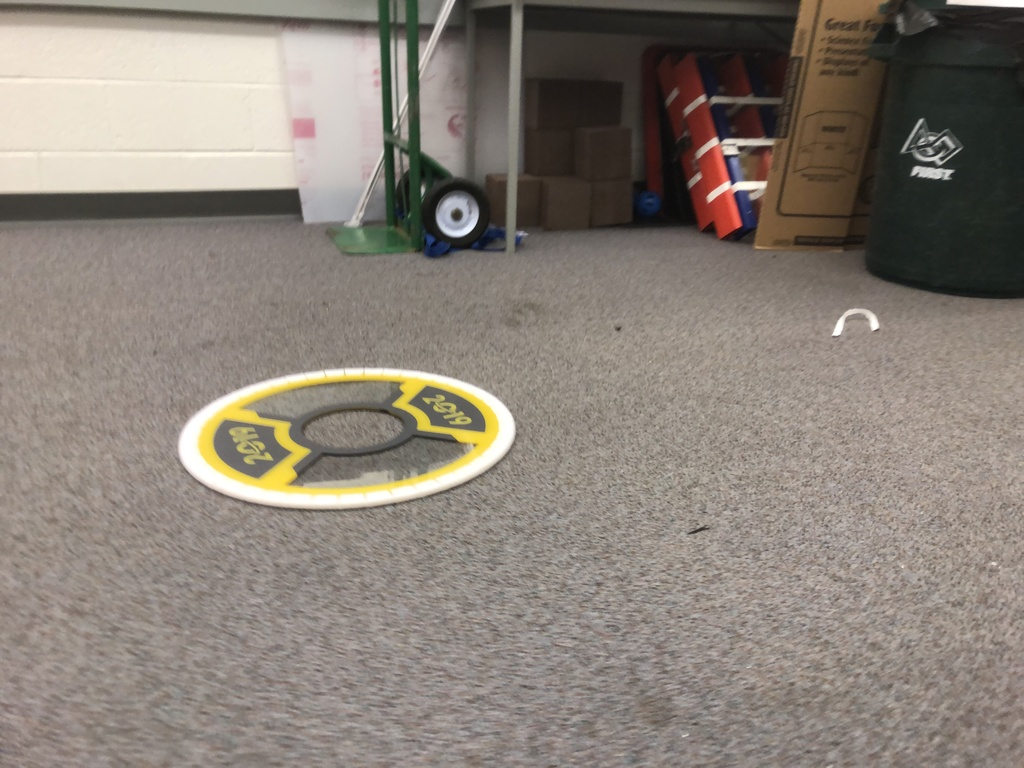hatch_panel: (166, 358, 536, 515)
